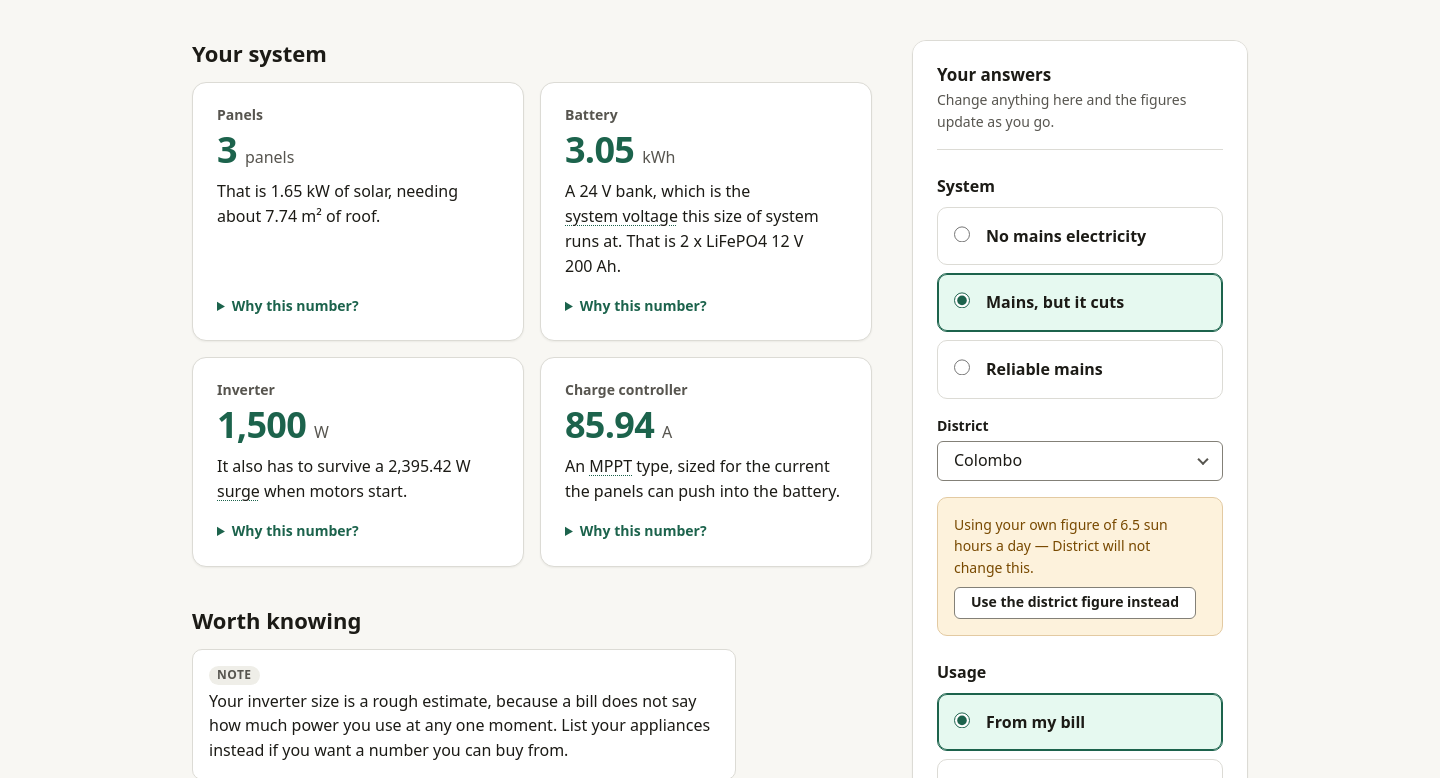
Test: the live sidebar › shows a manual sun-hours override is in force, and clearing it restores the district figure
Expected: the text "Using your own figure of 6.5" is shown, [954,515,1168,577]
Click the button "Use the district figure instead" at (1075, 603), box [954,587,1196,619]
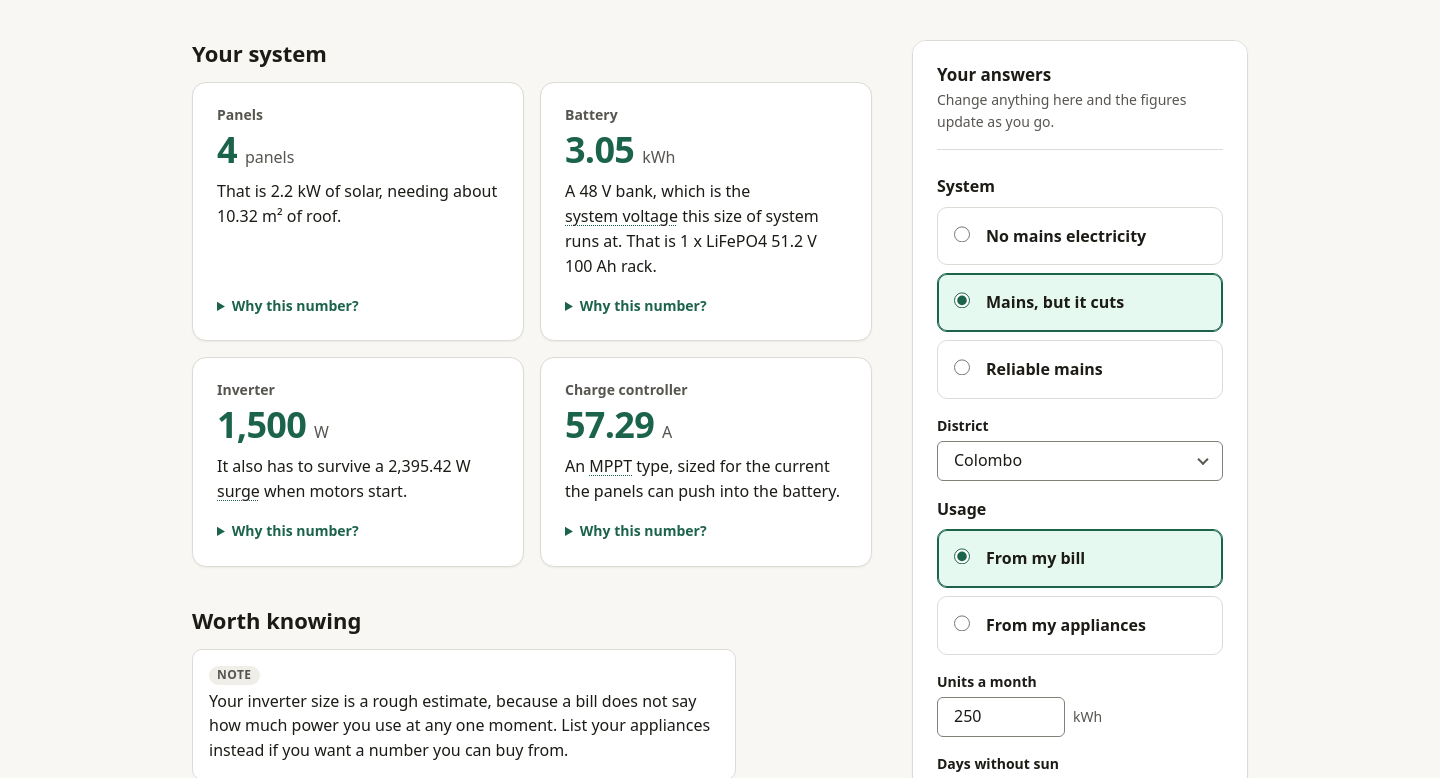
Expected: the text "Using your own figure" is gone
